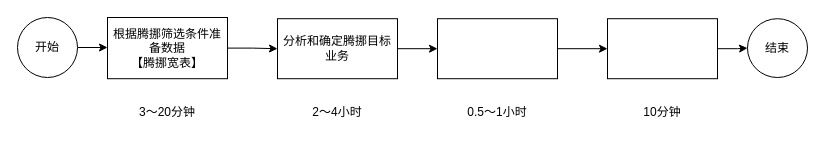
Some shapes in this 825 by 145 pixel diagram are drawn without their labels. The shapes that lost their labels are listed below. From the top down, each one's centre as x and y in pixels, then its label:
At point (497, 48): "在jumpserver上执行业务切换命令并记录执行结果".
At point (662, 48): "登记腾挪记录".
